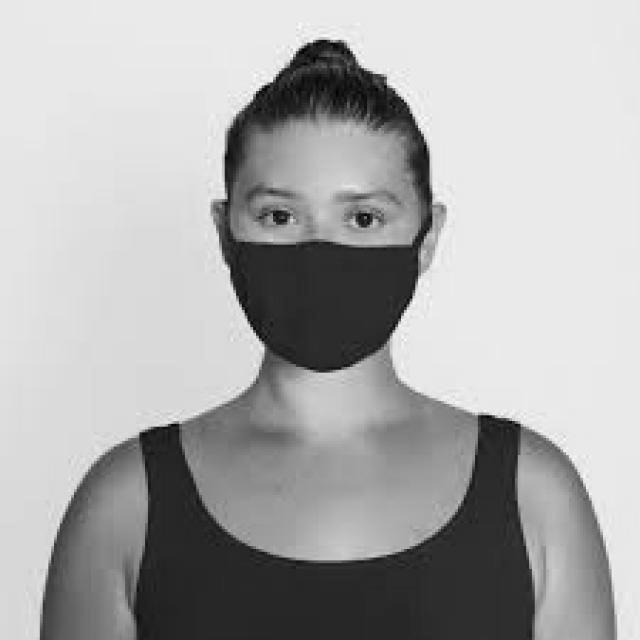fake: (217, 238, 424, 377)
real: (213, 125, 425, 380)
